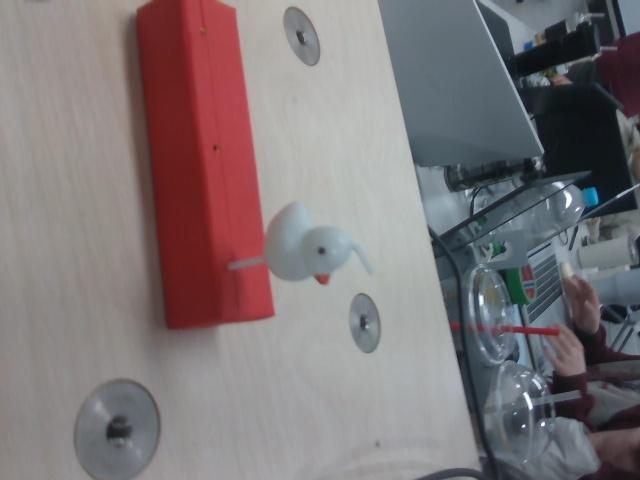w_duck: (262, 200, 349, 285)
